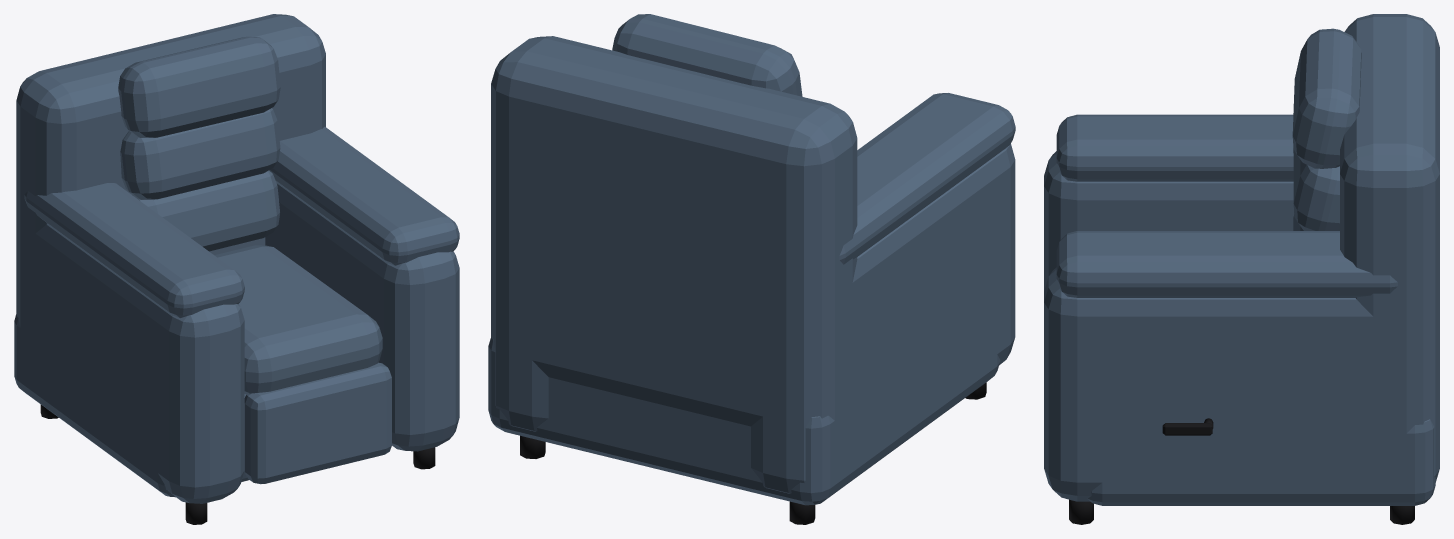
Rendered from PoltronaReclinavelAzul.fbx.
3 views of the same model, side by side, from view 1: azimuth 30°, elevation 25°; view 2: azimuth 150°, elevation 25°; view 3: azimuth 270°, elevation 25° (orthographic). The views are drawn at different scales.
Visible parts, largest first — view 1: PoltronaReclinavelAzul; view 2: PoltronaReclinavelAzul; view 3: PoltronaReclinavelAzul.
Part boxes in pixels (x1=…): PoltronaReclinavelAzul: x1=14, y1=14, x2=459, y2=524; PoltronaReclinavelAzul: x1=488, y1=14, x2=1015, y2=524; PoltronaReclinavelAzul: x1=1044, y1=14, x2=1439, y2=524.
Bounding box in the file's own units: 0.934 × 1.05 × 0.95.
